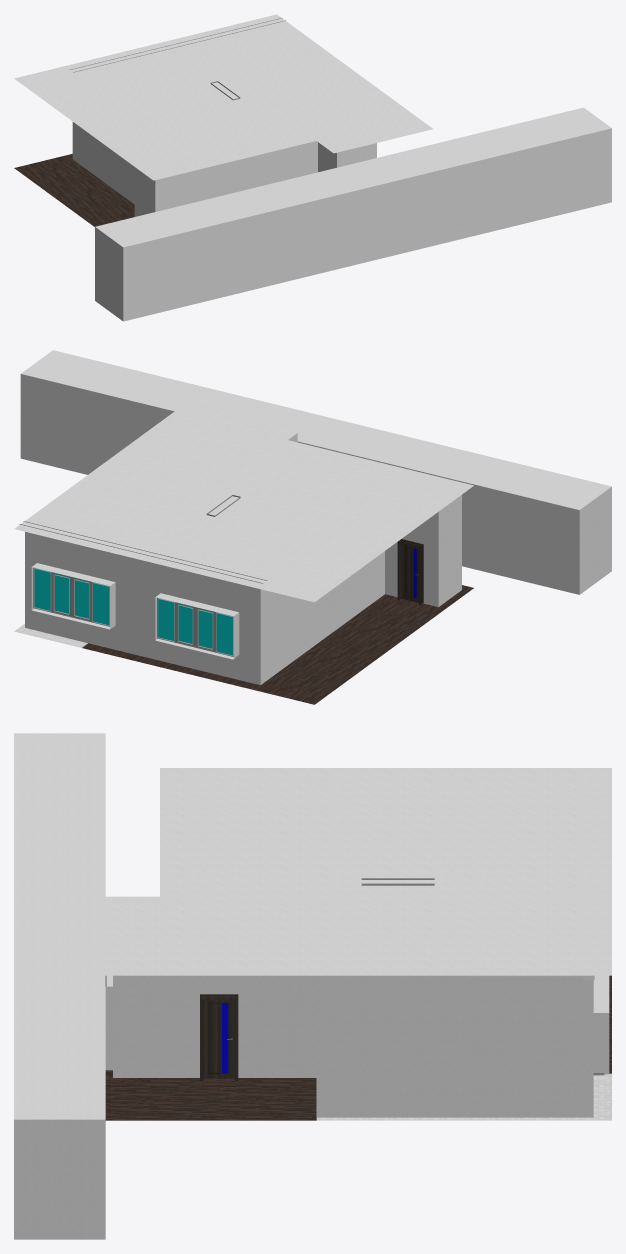
Rendered from jujia.fbx.
3 views of the same model, one above another, from view 1: azimuth 30°, elevation 25°; view 2: azimuth 150°, elevation 25°; view 3: azimuth 270°, elevation 25° (orthographic). The views are drawn at different scales.
Visible parts, largest first — view 1: qiang1, ding1, di1, ding2; view 2: qiang1, ding1, di1, window3, window2, door_open1, ding2, door1; view 3: qiang1, ding1, di1, door_open, door, ding2.
Boxes of the visible parts, left/top/right/bottom form: qiang1: left=72, top=41, right=611, bottom=321; ding1: left=14, top=14, right=433, bottom=180; di1: left=14, top=154, right=134, bottom=226; ding2: left=70, top=18, right=285, bottom=100; qiang1: left=20, top=350, right=611, bottom=685; ding1: left=14, top=398, right=473, bottom=602; di1: left=14, top=585, right=473, bottom=704; window3: left=157, top=597, right=239, bottom=658; window2: left=33, top=567, right=115, bottom=628; door_open1: left=402, top=543, right=418, bottom=602; ding2: left=19, top=495, right=267, bottom=583; door1: left=397, top=539, right=423, bottom=605; qiang1: left=14, top=733, right=609, bottom=1239; ding1: left=104, top=768, right=611, bottom=975; di1: left=105, top=975, right=611, bottom=1120; door_open: left=204, top=1000, right=233, bottom=1078; door: left=200, top=994, right=238, bottom=1080; ding2: left=361, top=878, right=594, bottom=980.
Bounding box in the file's own units: 2073 × 368 × 1357.
